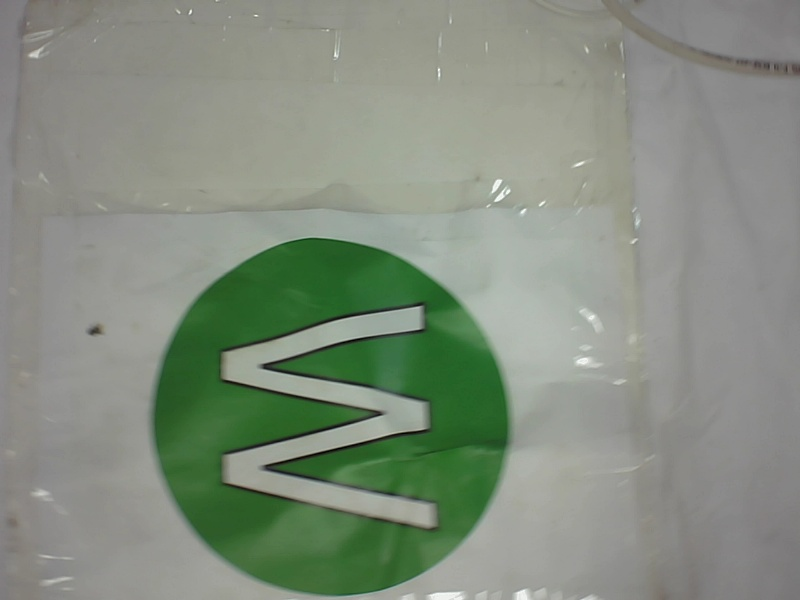areaB: (138, 240, 530, 593)
